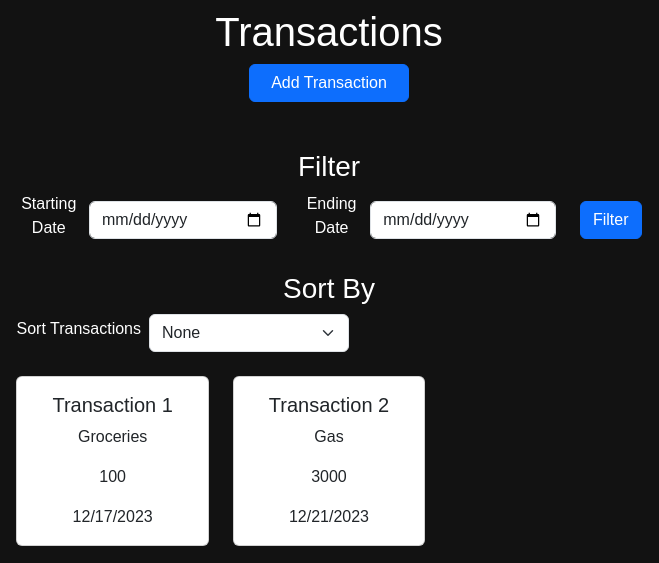
Test case: App › filters transactions when filter form is submitted
The image size is (659, 563).
Check: the text "Transaction 1" is shown, box [52,394,173,416]
Check: the text "Transaction 2" is shown, box [269,394,389,416]
# Set start date
Type "2023-12-01" into the date field labelled "Starting Date".
click(183, 220); type("2023-12-01")  # box [89,201,277,239]
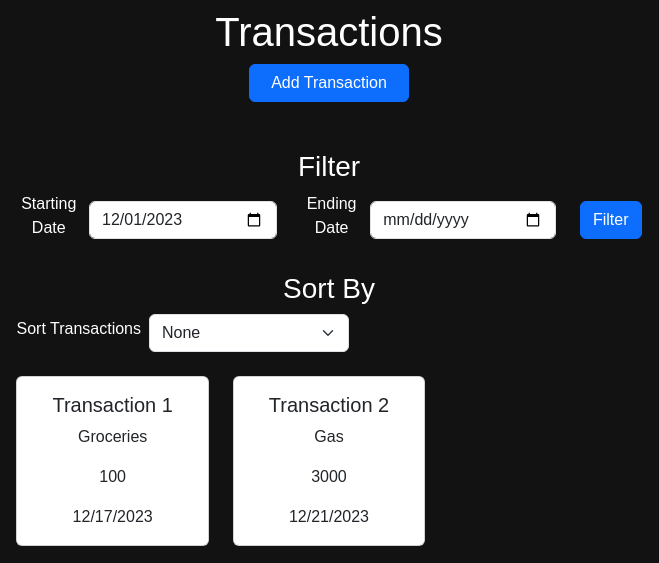
# Set end date
Type "2023-12-20" into the date field labelled "Ending Date".
click(463, 220); type("2023-12-20")  # box [370,201,556,239]
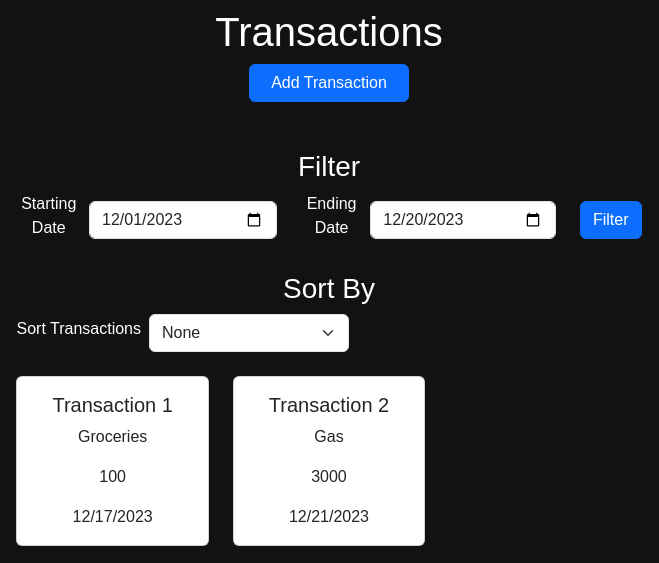
# Submit filter form
Click the button "Filter".
click(611, 220)  # box [580,201,642,239]
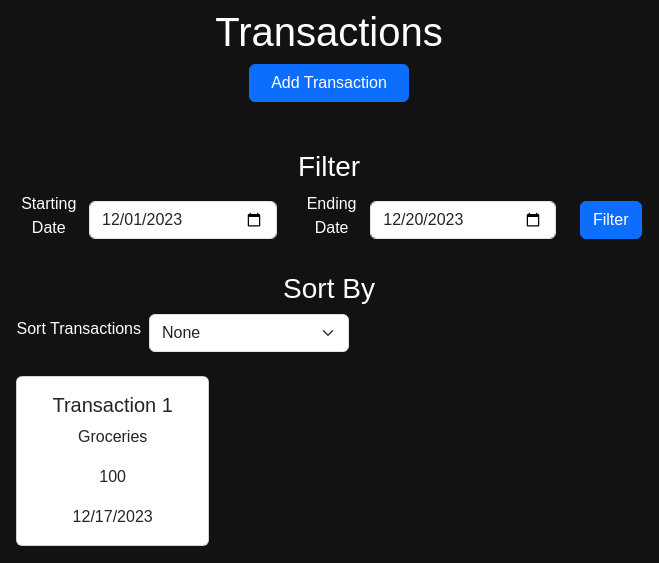
Check: the text "Transaction 1" is shown, box [52,394,173,416]
Check: the text "Transaction 2" is gone
